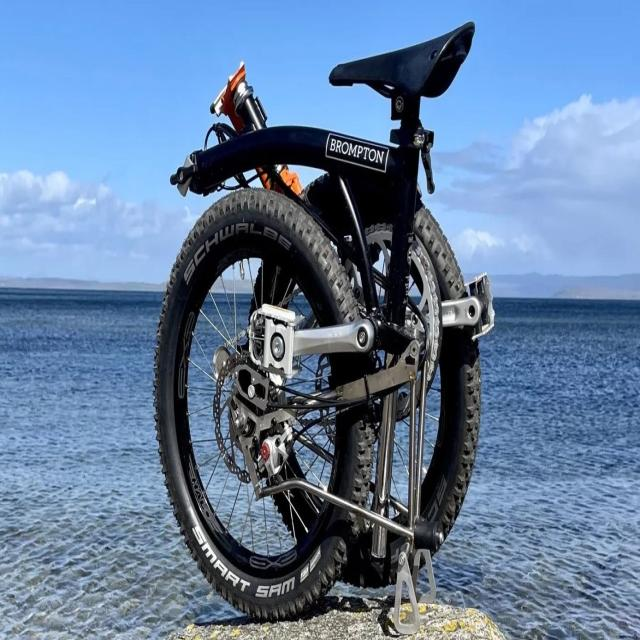folding-bike: (150, 16, 498, 628)
